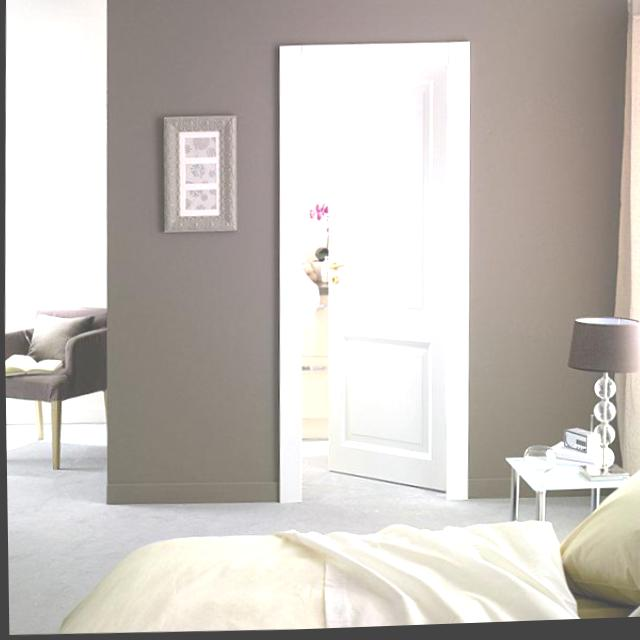semi-open: (257, 17, 485, 525)
